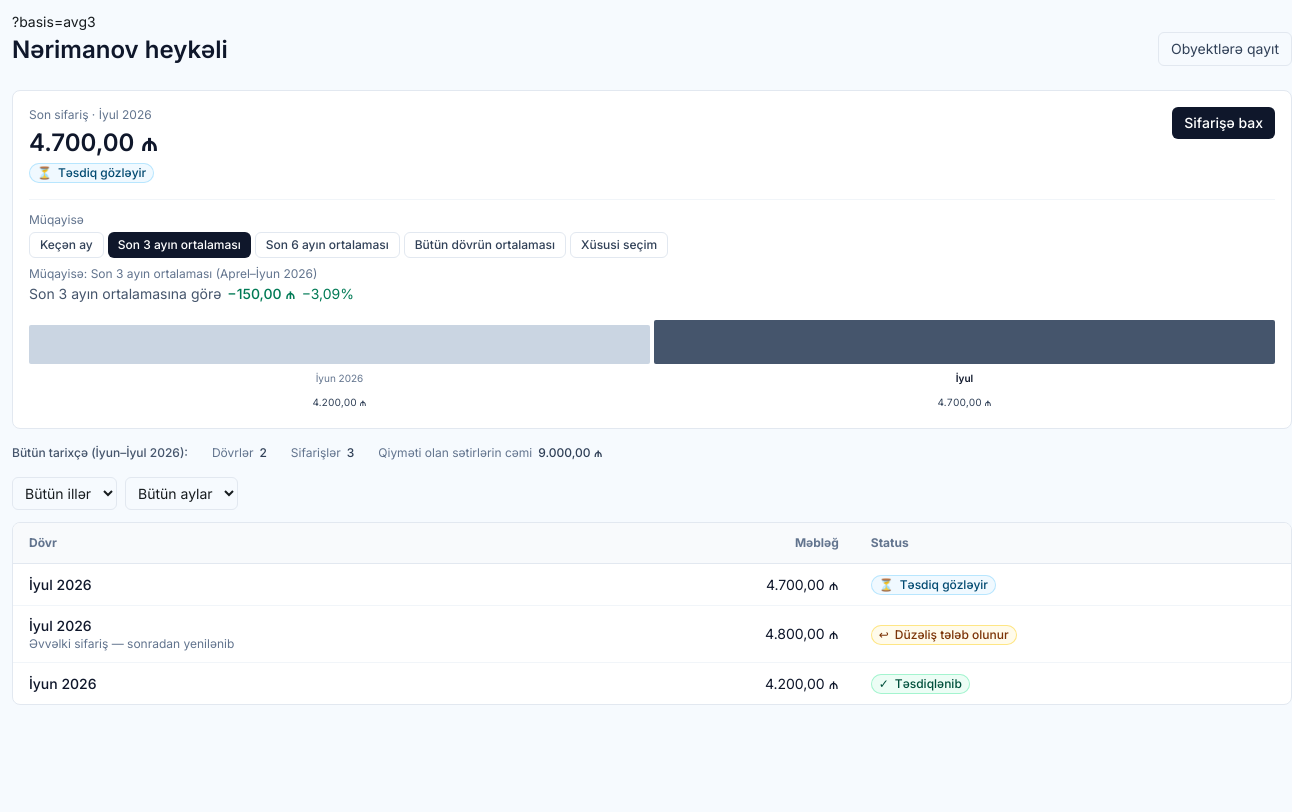
Scenario: the basis the page was opened with › rewrites the URL and asks again when the reader picks another basis
Check: the heading "Nərimanov heykəli" is shown, box 12,34 -> 228,66
Check: the text "Son 3 ayın ortalamasına görə" is shown, box 29,284 -> 221,304
Click the button "Keçən ay": {"x": 66, "y": 245} 29,232 -> 104,258
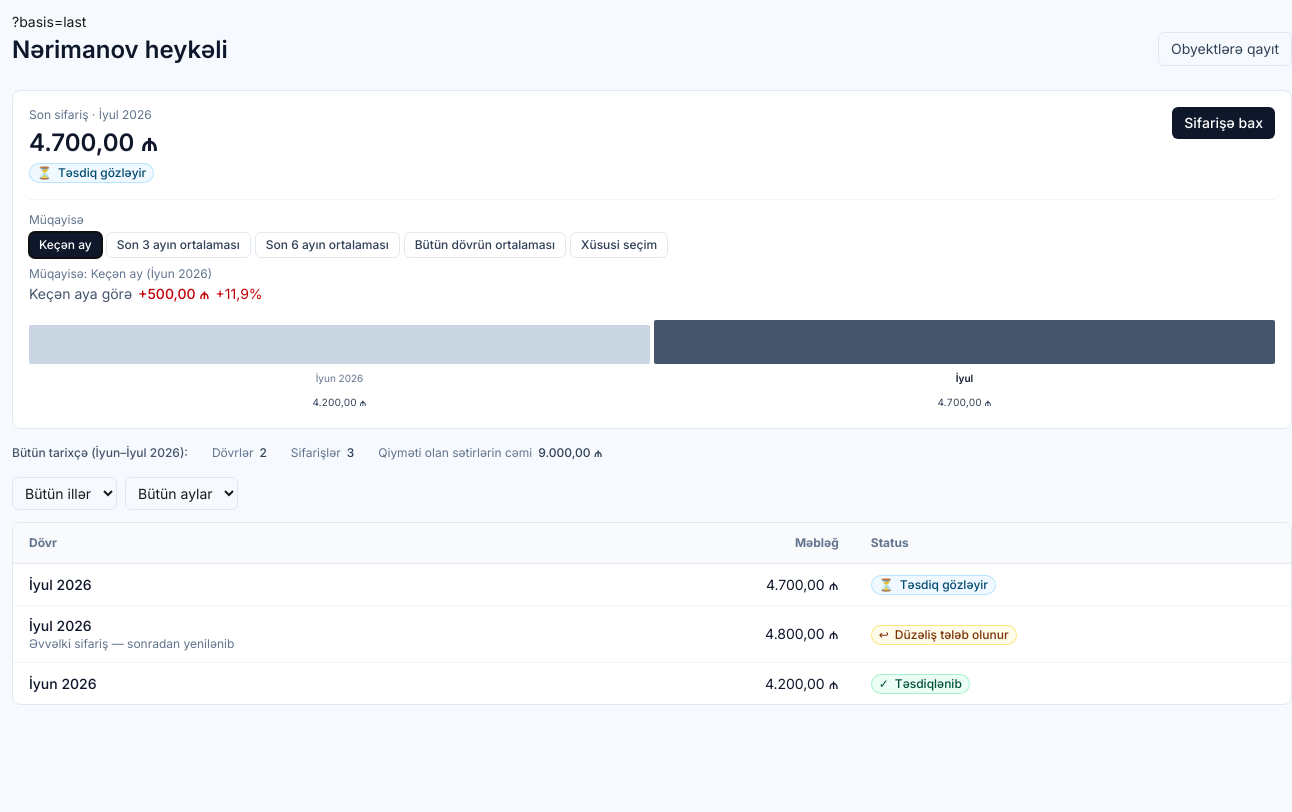
Check: the text with test id "search" reads "?basis=last", box 12,13 -> 86,30
Check: the text "Keçən aya görə" is shown, box 29,284 -> 132,304
Check: the text "Son 3 ayın ortalamasına görə" is gone
